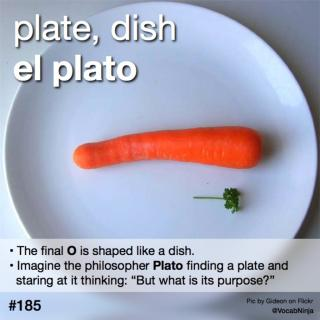Carrot: (72, 124, 264, 170)
